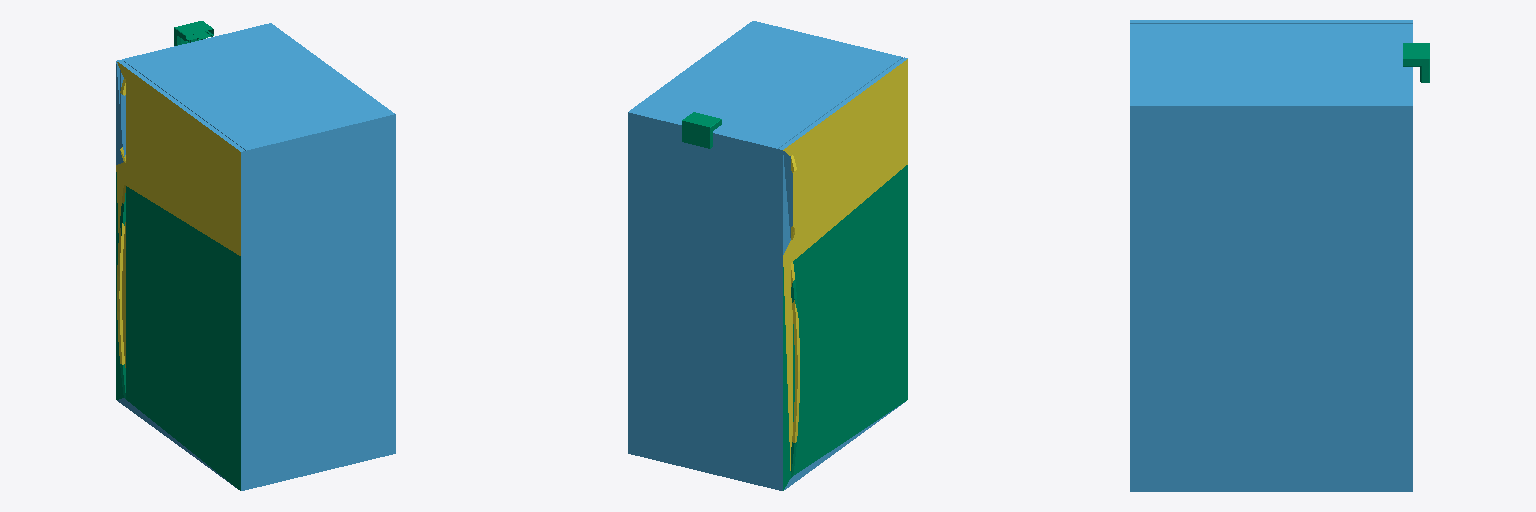
The robot description file, URDF, robot "partnet_a44c2110f646309bc7fb1a0a584939a5":
<?xml version="1.0" ?>
<robot name="partnet_a44c2110f646309bc7fb1a0a584939a5">
	<link name="base"/>
	<link name="link_0">
		<visual name="frame-5">
			<origin xyz="0 0 0"/>
			<geometry>
				<mesh filename="textured_objs/new-5.obj"/>
			</geometry>
		</visual>
		<visual name="frame-5">
			<origin xyz="0 0 0"/>
			<geometry>
				<mesh filename="textured_objs/new-0.obj"/>
			</geometry>
		</visual>
		<collision>
			<origin xyz="0 0 0"/>
			<geometry>
				<mesh filename="textured_objs/new-5.obj"/>
			</geometry>
		</collision>
		<collision>
			<origin xyz="0 0 0"/>
			<geometry>
				<mesh filename="textured_objs/new-0.obj"/>
			</geometry>
		</collision>
	</link>
	<joint name="joint_0" type="fixed">
		<origin rpy="1.570796326794897 0 -1.570796326794897" xyz="0 0 0"/>
		<child link="link_0"/>
		<parent link="base"/>
	</joint>
	<link name="link_1">
		<visual name="door_frame-10">
			<origin xyz="-0.5543596224430867 -0.7725170000000001 -0.33093961184787113"/>
			<geometry>
				<mesh filename="textured_objs/new-3.obj"/>
			</geometry>
		</visual>
		<visual name="handle-11">
			<origin xyz="-0.5543596224430867 -0.7725170000000001 -0.33093961184787113"/>
			<geometry>
				<mesh filename="textured_objs/new-1.obj"/>
			</geometry>
		</visual>
		<visual name="other_leaf-13">
			<origin xyz="-0.5543596224430867 -0.7725170000000001 -0.33093961184787113"/>
			<geometry>
				<mesh filename="textured_objs/original-3.obj"/>
			</geometry>
		</visual>
		<visual name="other_leaf-13">
			<origin xyz="-0.5543596224430867 -0.7725170000000001 -0.33093961184787113"/>
			<geometry>
				<mesh filename="textured_objs/original-2.obj"/>
			</geometry>
		</visual>
		<visual name="other_leaf-13">
			<origin xyz="-0.5543596224430867 -0.7725170000000001 -0.33093961184787113"/>
			<geometry>
				<mesh filename="textured_objs/original-4.obj"/>
			</geometry>
		</visual>
		<visual name="other_leaf-13">
			<origin xyz="-0.5543596224430867 -0.7725170000000001 -0.33093961184787113"/>
			<geometry>
				<mesh filename="textured_objs/original-5.obj"/>
			</geometry>
		</visual>
		<visual name="other_leaf-13">
			<origin xyz="-0.5543596224430867 -0.7725170000000001 -0.33093961184787113"/>
			<geometry>
				<mesh filename="textured_objs/original-6.obj"/>
			</geometry>
		</visual>
		<visual name="other_leaf-13">
			<origin xyz="-0.5543596224430867 -0.7725170000000001 -0.33093961184787113"/>
			<geometry>
				<mesh filename="textured_objs/original-7.obj"/>
			</geometry>
		</visual>
		<visual name="other_leaf-13">
			<origin xyz="-0.5543596224430867 -0.7725170000000001 -0.33093961184787113"/>
			<geometry>
				<mesh filename="textured_objs/original-8.obj"/>
			</geometry>
		</visual>
		<visual name="other_leaf-13">
			<origin xyz="-0.5543596224430867 -0.7725170000000001 -0.33093961184787113"/>
			<geometry>
				<mesh filename="textured_objs/original-9.obj"/>
			</geometry>
		</visual>
		<collision>
			<origin xyz="-0.5543596224430867 -0.7725170000000001 -0.33093961184787113"/>
			<geometry>
				<mesh filename="textured_objs/new-3.obj"/>
			</geometry>
		</collision>
		<collision>
			<origin xyz="-0.5543596224430867 -0.7725170000000001 -0.33093961184787113"/>
			<geometry>
				<mesh filename="textured_objs/new-1.obj"/>
			</geometry>
		</collision>
		<collision>
			<origin xyz="-0.5543596224430867 -0.7725170000000001 -0.33093961184787113"/>
			<geometry>
				<mesh filename="textured_objs/original-3.obj"/>
			</geometry>
		</collision>
		<collision>
			<origin xyz="-0.5543596224430867 -0.7725170000000001 -0.33093961184787113"/>
			<geometry>
				<mesh filename="textured_objs/original-2.obj"/>
			</geometry>
		</collision>
		<collision>
			<origin xyz="-0.5543596224430867 -0.7725170000000001 -0.33093961184787113"/>
			<geometry>
				<mesh filename="textured_objs/original-4.obj"/>
			</geometry>
		</collision>
		<collision>
			<origin xyz="-0.5543596224430867 -0.7725170000000001 -0.33093961184787113"/>
			<geometry>
				<mesh filename="textured_objs/original-5.obj"/>
			</geometry>
		</collision>
		<collision>
			<origin xyz="-0.5543596224430867 -0.7725170000000001 -0.33093961184787113"/>
			<geometry>
				<mesh filename="textured_objs/original-6.obj"/>
			</geometry>
		</collision>
		<collision>
			<origin xyz="-0.5543596224430867 -0.7725170000000001 -0.33093961184787113"/>
			<geometry>
				<mesh filename="textured_objs/original-7.obj"/>
			</geometry>
		</collision>
		<collision>
			<origin xyz="-0.5543596224430867 -0.7725170000000001 -0.33093961184787113"/>
			<geometry>
				<mesh filename="textured_objs/original-8.obj"/>
			</geometry>
		</collision>
		<collision>
			<origin xyz="-0.5543596224430867 -0.7725170000000001 -0.33093961184787113"/>
			<geometry>
				<mesh filename="textured_objs/original-9.obj"/>
			</geometry>
		</collision>
	</link>
	<joint name="joint_1" type="fixed">
		<origin xyz="0.5543596224430867 0.7725170000000001 0.33093961184787113"/>
		<axis xyz="0 1 0"/>
		<child link="link_1"/>
		<parent link="link_0"/>
		<limit lower="0.0" upper="3.141592653589793"/>
	</joint>
	<link name="link_2">
		<visual name="door_frame-8">
			<origin xyz="0.5350193299146853 -0.7725170000000001 -0.322367571646071"/>
			<geometry>
				<mesh filename="textured_objs/new-4.obj"/>
			</geometry>
		</visual>
		<visual name="handle-9">
			<origin xyz="0.5350193299146853 -0.7725170000000001 -0.322367571646071"/>
			<geometry>
				<mesh filename="textured_objs/new-2.obj"/>
			</geometry>
		</visual>
		<collision>
			<origin xyz="0.5350193299146853 -0.7725170000000001 -0.322367571646071"/>
			<geometry>
				<mesh filename="textured_objs/new-4.obj"/>
			</geometry>
		</collision>
		<collision>
			<origin xyz="0.5350193299146853 -0.7725170000000001 -0.322367571646071"/>
			<geometry>
				<mesh filename="textured_objs/new-2.obj"/>
			</geometry>
		</collision>
	</link>
	<joint name="joint_2" type="revolute">
		<origin xyz="-0.5350193299146853 0.7725170000000001 0.322367571646071"/>
		<axis xyz="0 -1 0"/>
		<child link="link_2"/>
		<parent link="link_0"/>
		<limit lower="-0.0" upper="3.141592653589793"/>
	</joint>
</robot>

--- Facts derived from the render (not from the file) ---
The picture shows the robot from 3 angles, left to right: view 1: azimuth 30°, elevation 25°; view 2: azimuth 150°, elevation 25°; view 3: azimuth 270°, elevation 25°; orthographic projection.
Model partnet_a44c2110f646309bc7fb1a0a584939a5 with 4 links and 3 joints (1 revolute, 2 fixed), rooted at base, posed all joints at 0.
Links seen in each view (by area): view 1: link_0, link_1, link_2; view 2: link_0, link_1, link_2; view 3: link_0, link_1.
Link boxes in pixels (<box>): link_0: <box>116,23,395,490</box>; link_1: <box>116,21,240,490</box>; link_2: <box>116,62,240,367</box>; link_0: <box>628,21,907,490</box>; link_1: <box>682,112,907,490</box>; link_2: <box>783,59,907,470</box>; link_0: <box>1130,20,1412,491</box>; link_1: <box>1403,43,1429,82</box>.
Size in the robot's own frame: 0.777 by 1.1 by 1.62 metres.
5 mesh visuals loaded from 14 distinct referenced files (5 OBJ); not drawn: 9 (reference not matched to a file when rendering).